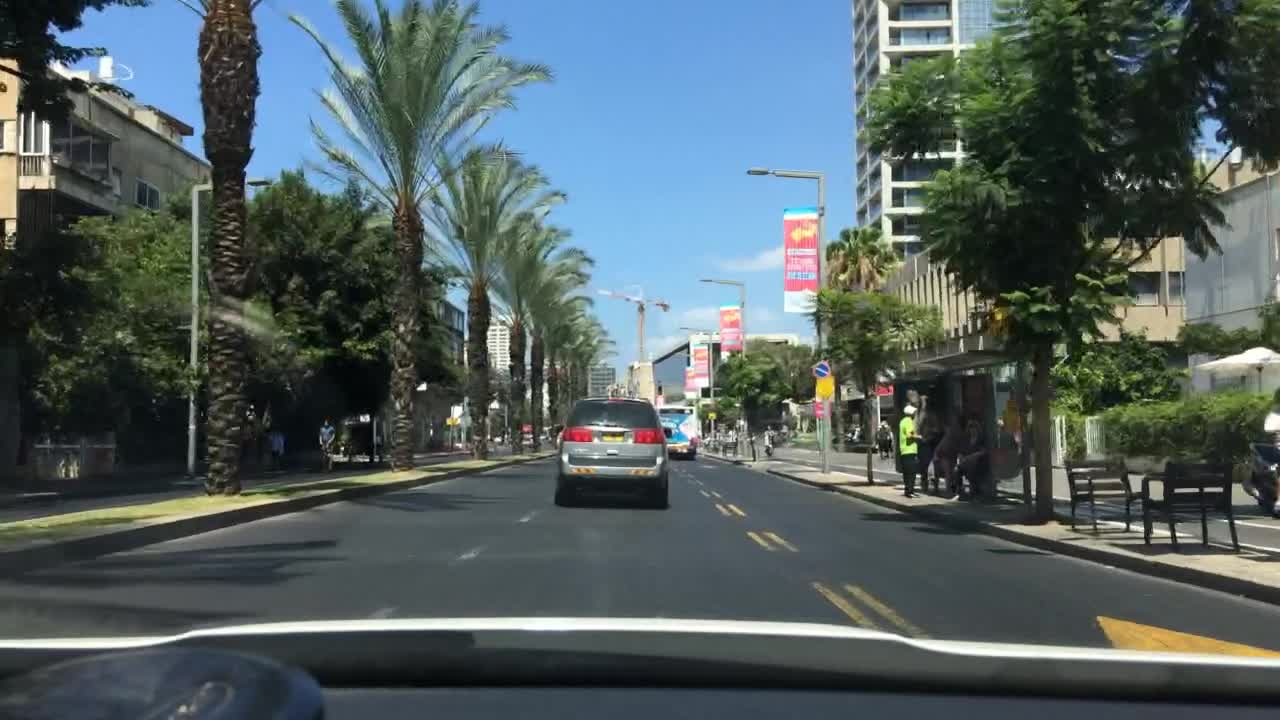bike: (317, 441, 331, 470)
bus: (654, 405, 699, 459)
car: (550, 394, 672, 507), (833, 427, 864, 445), (516, 432, 534, 446)
motor: (1243, 442, 1279, 514)
person: (936, 416, 963, 498), (899, 405, 920, 498), (963, 421, 987, 500), (918, 407, 940, 493), (875, 420, 893, 461), (270, 432, 285, 466), (762, 402, 780, 411)
rider: (319, 420, 335, 466), (1265, 412, 1279, 455)
traffic sign: (812, 358, 832, 379), (815, 380, 835, 401), (817, 381, 835, 403), (812, 403, 830, 419), (444, 416, 459, 425)
